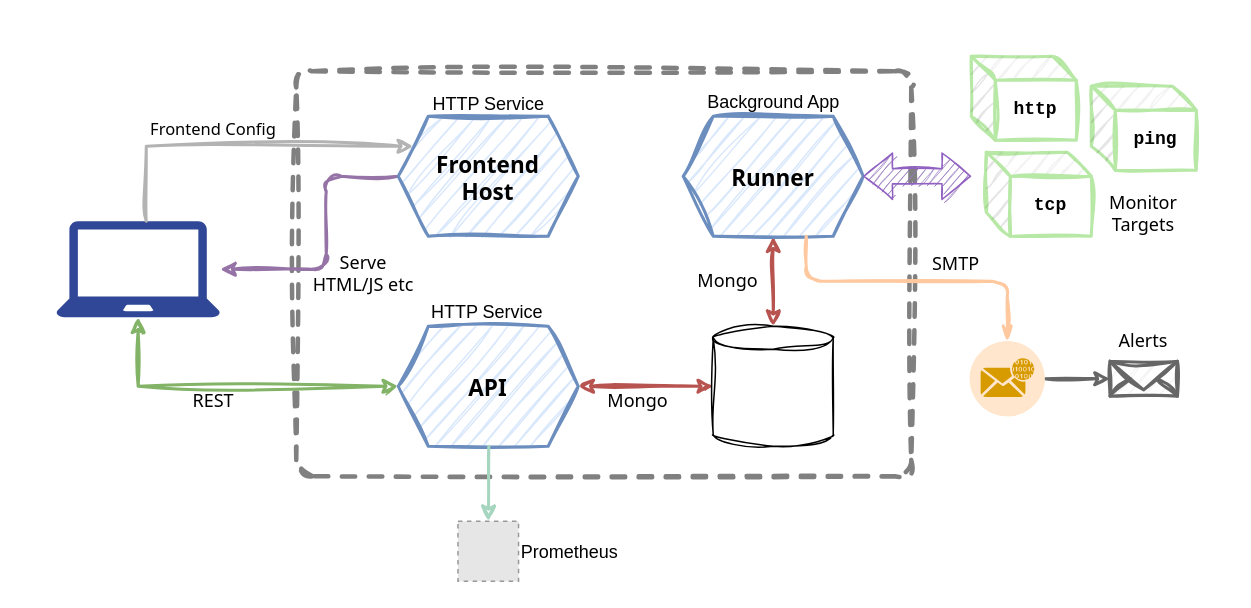
The diagram is 1251 pixels wide and 608 high, and some of its shapes have lost their labels. Grey dashed boxes stand in for pictures. Here are the shapes that lost their labels. From the top down, the centre of each, then its label:
At (x=137, y=268): "Frontend App".
At (x=772, y=385): "MongoDB".
At (x=1007, y=378): "Email Server".
